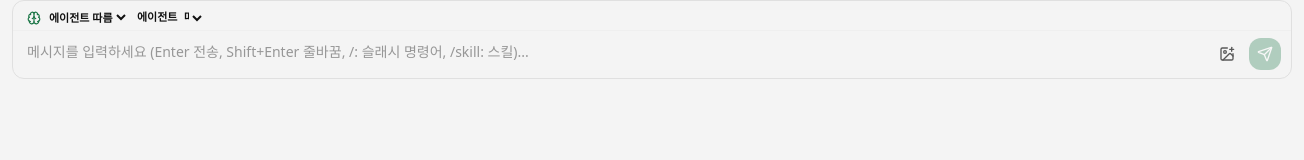
ChatInput component › shows error banner when skill is not found
Replace the text in the text box with "/skill:non-existent" at (652, 52), box [13,31,1291,72]
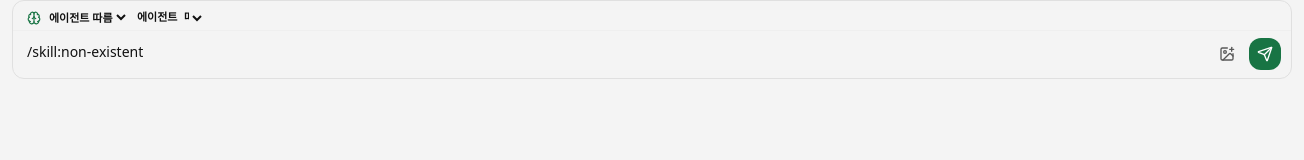
Press Enter in the text box, box [13,31,1291,72]
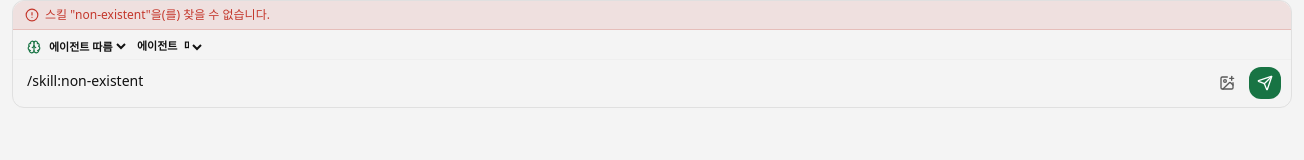
Check: the text "스킬 \"non-existent\"을(를) 찾을 수 없습니다." is shown, box [45,7,270,23]
